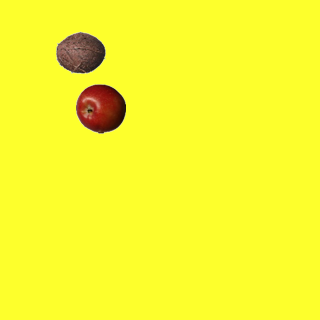Apple Braeburn: (75, 83, 125, 133)
Cocos: (55, 27, 105, 77)
